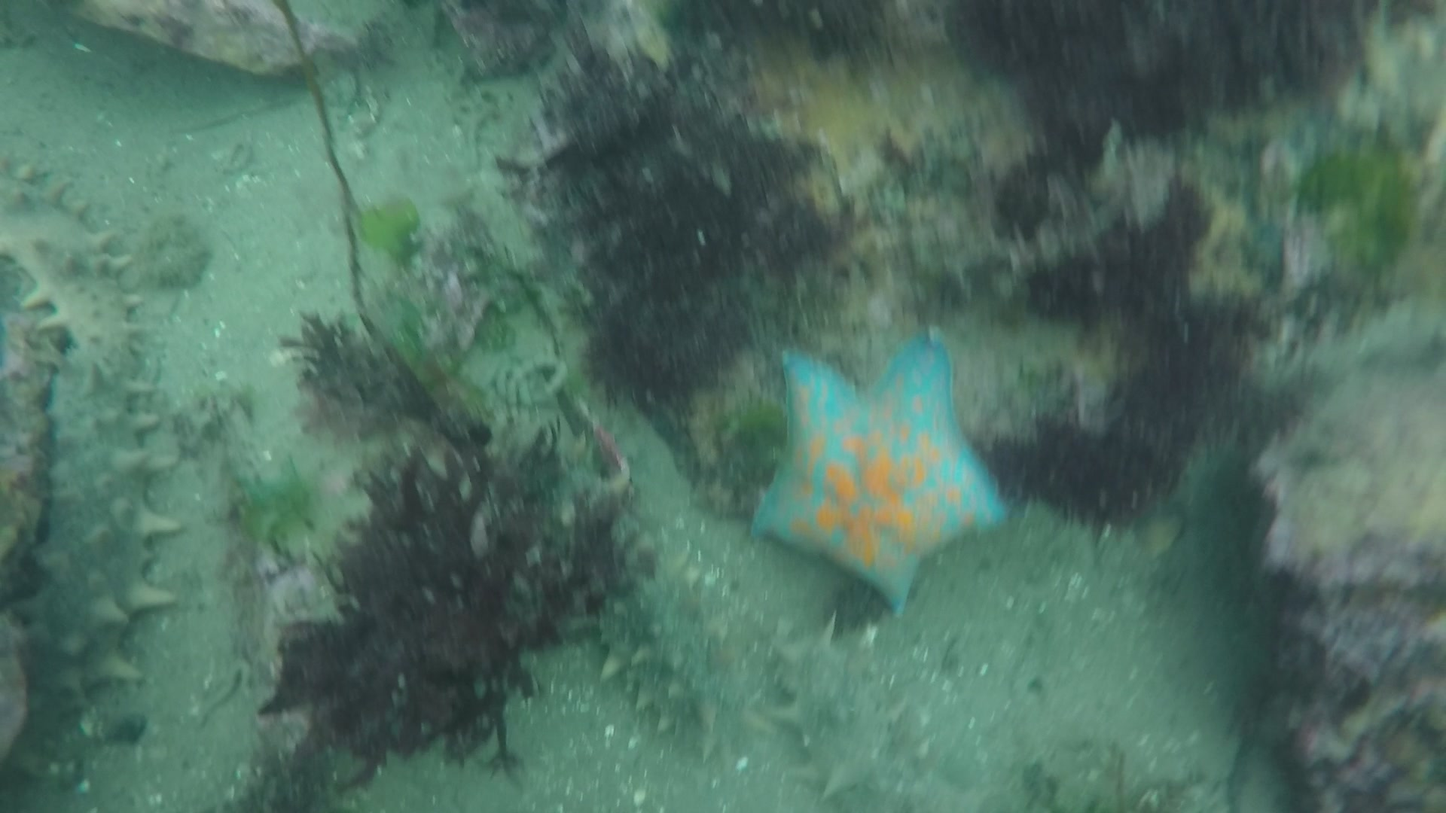echinus: (478, 406, 722, 746), (10, 340, 180, 696), (1, 151, 142, 379), (770, 641, 936, 813)
holothurian: (753, 345, 1006, 621)
